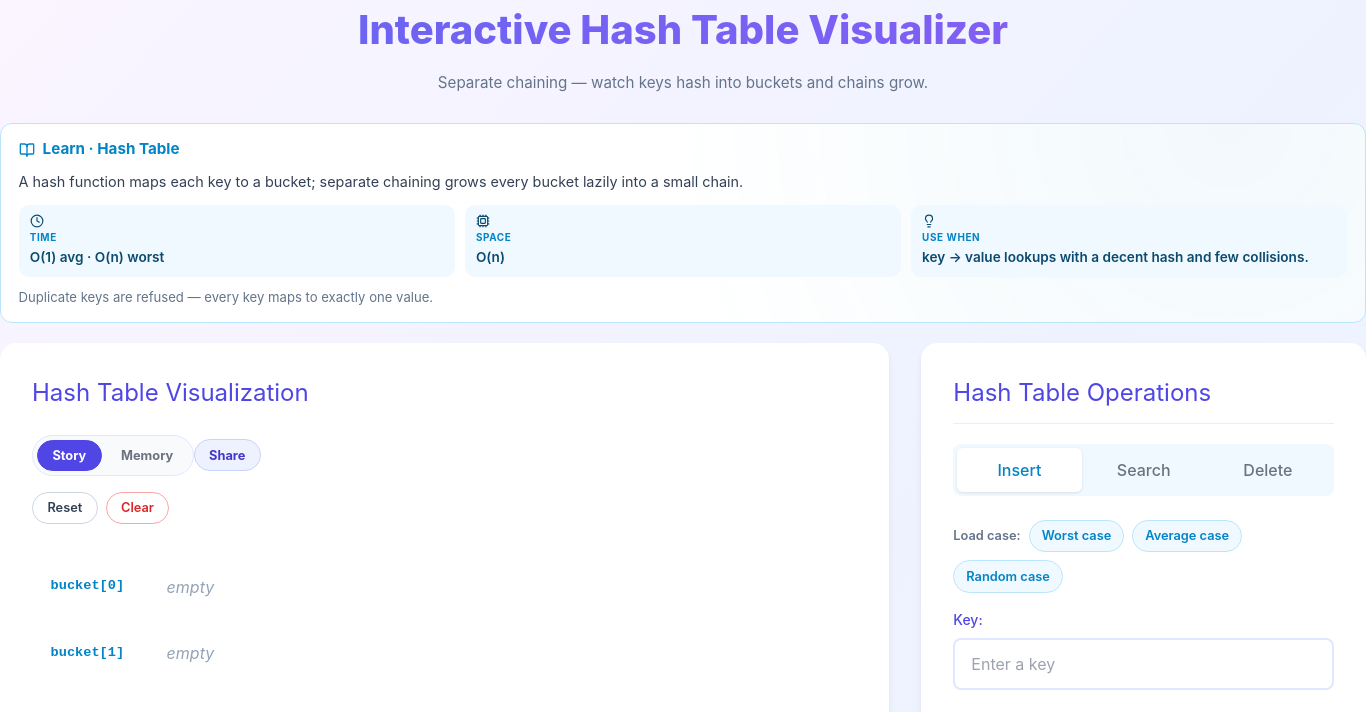
Test: HashTable › switching tabs swaps the operation button
Click the button "Search". click: point(1144, 470)
box: [1082,448,1206,492]
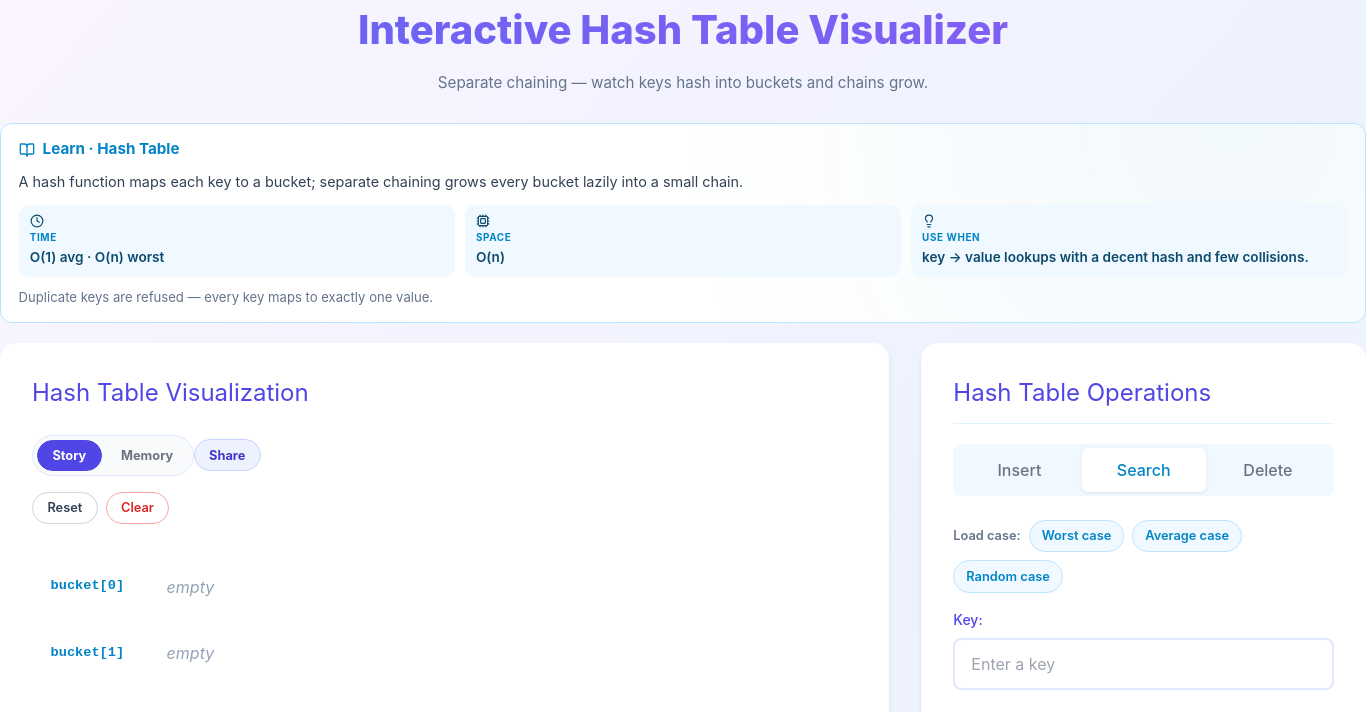
Click the button "Delete". click: point(1268, 470)
box: [1206,448,1330,492]
(page scrolled)
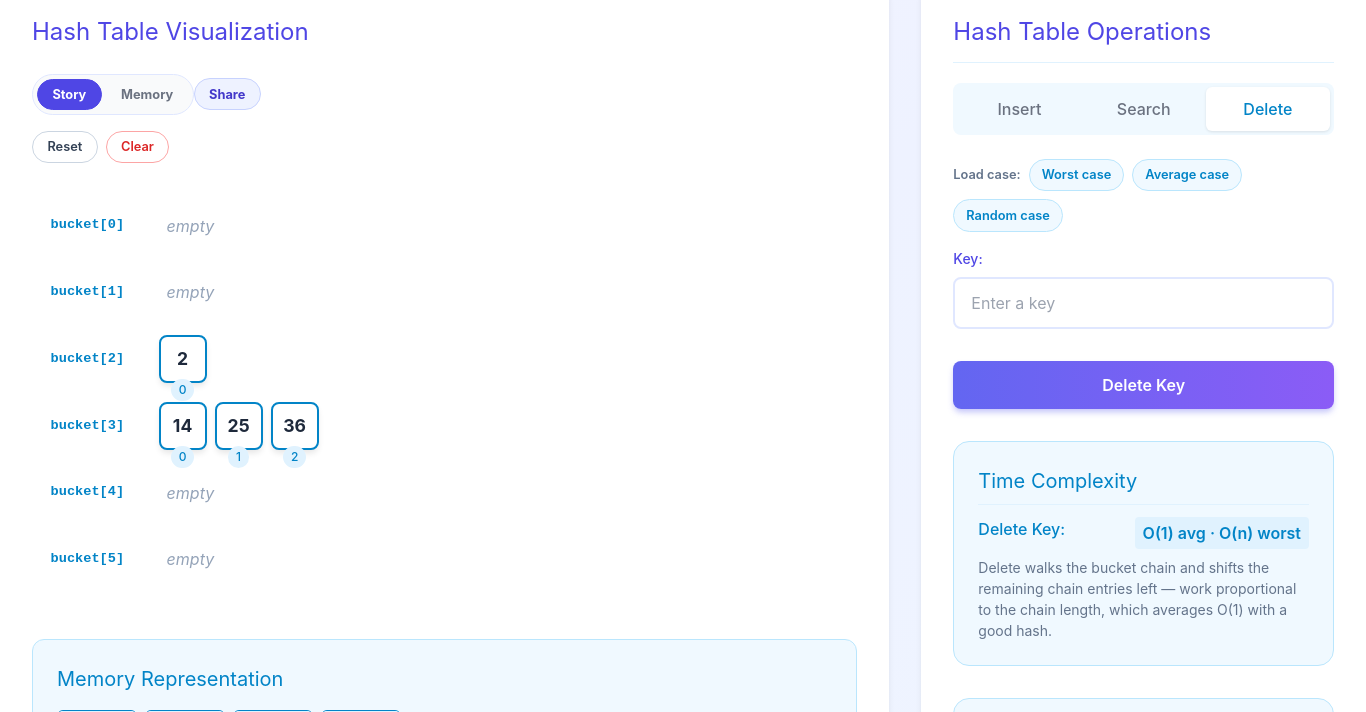
Check: the button "Delete Key" is shown, box [953,361,1334,409]
